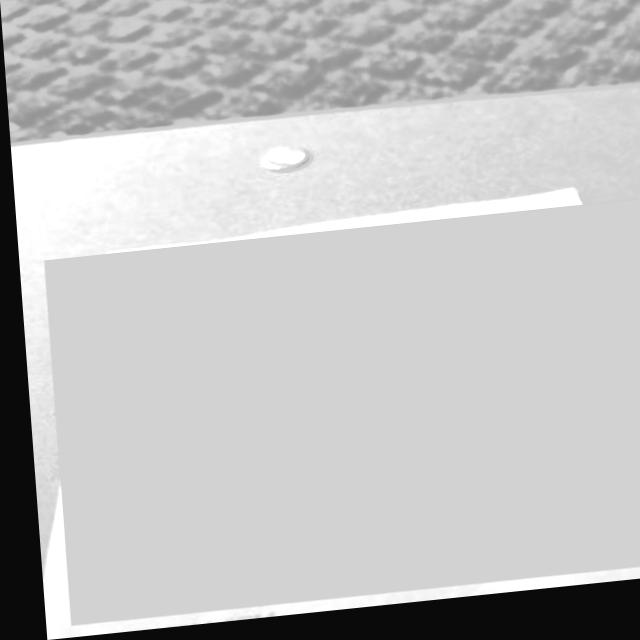qr_code: (40, 212, 640, 626)
